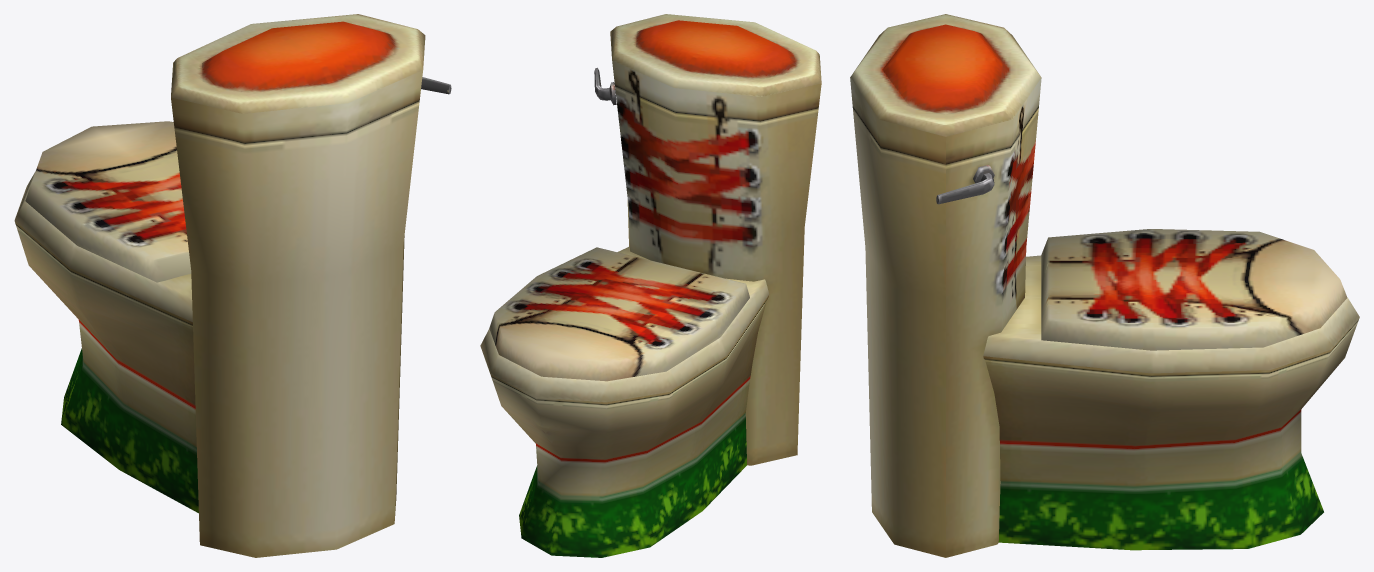
The model's file is furni_0200759.FBX.
3 renders of one model, left to right at view 1: azimuth 30°, elevation 25°; view 2: azimuth 150°, elevation 25°; view 3: azimuth 270°, elevation 25°, orthographic. The views are drawn at different scales.
Visible parts, largest first — view 1: furni_0200759; view 2: furni_0200759; view 3: furni_0200759.
Boxes of the visible parts, x1,y1,x2,y2 form: furni_0200759: (14, 14, 451, 557); furni_0200759: (480, 14, 821, 557); furni_0200759: (850, 14, 1359, 557).
Size of the model in its own units: 60.61 by 99.04 by 101.
